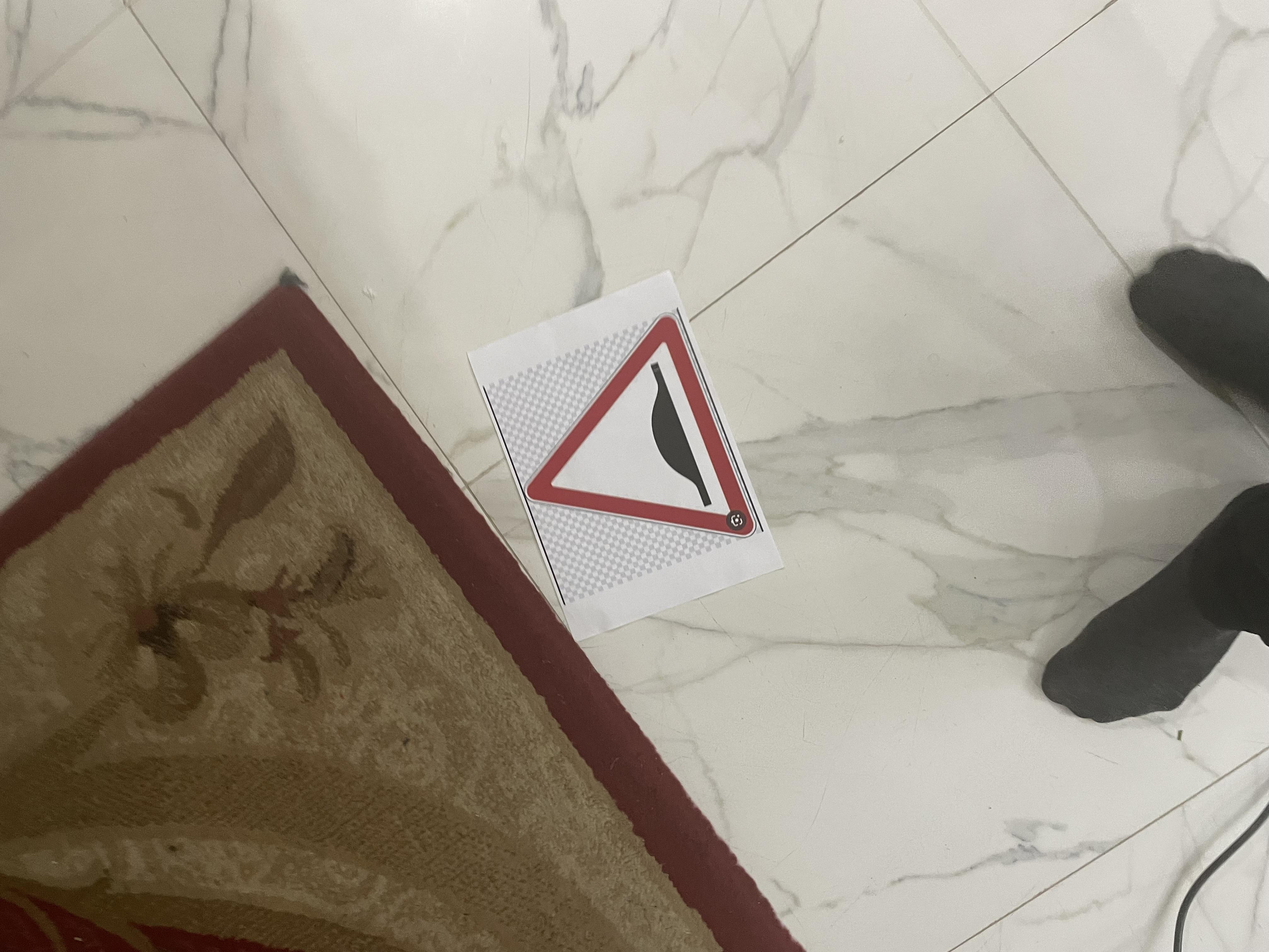Hump: (546, 381, 853, 568)
